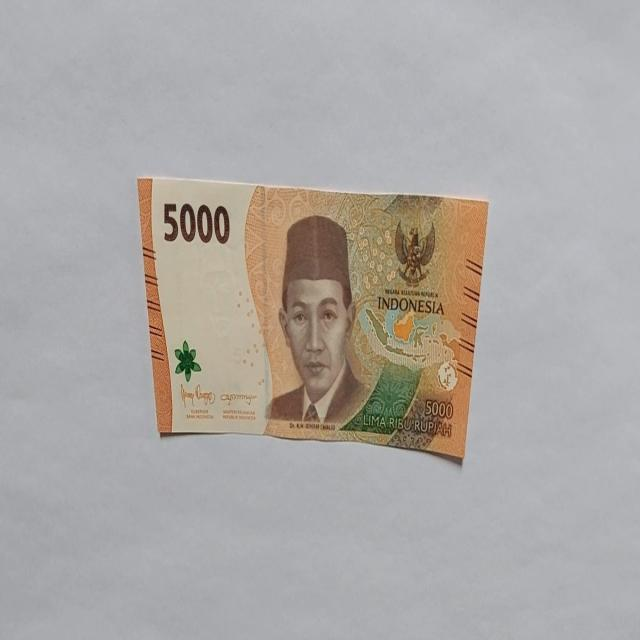lima ribu rupiah: (137, 173, 490, 463), (265, 213, 370, 428)
